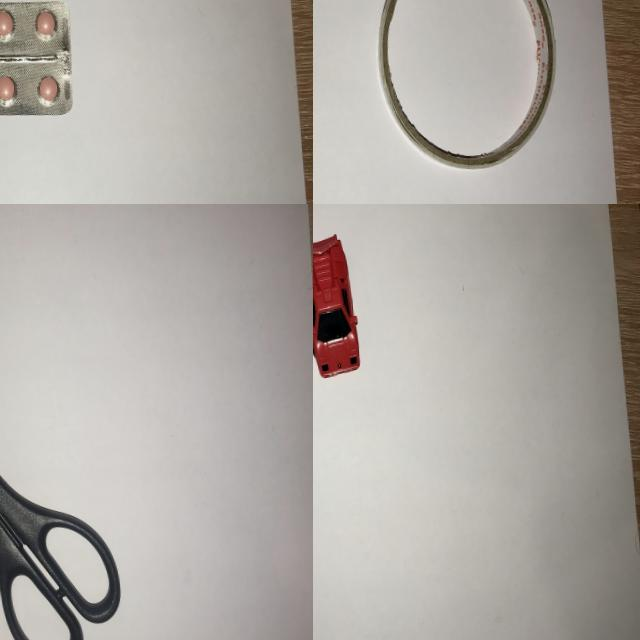car: (313, 222, 368, 385)
scissors: (0, 290, 134, 640)
scotch: (364, 0, 570, 184)
tablets: (0, 0, 85, 134)
